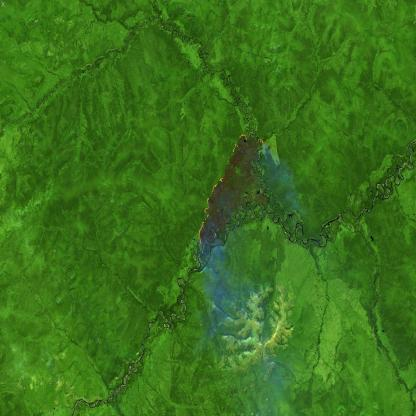fire: (196, 129, 264, 247)
